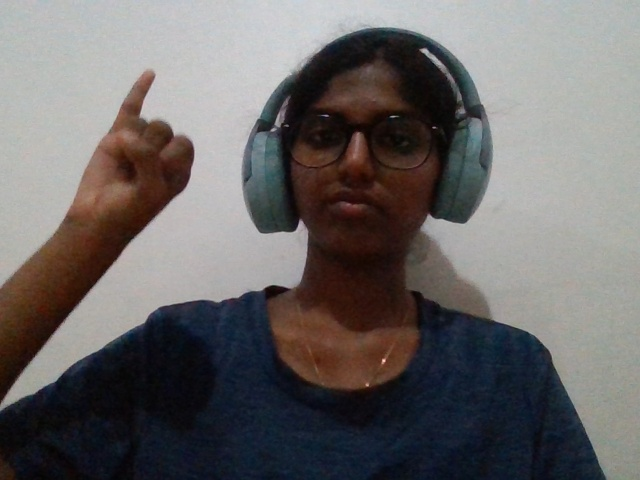I: (28, 57, 218, 329)
